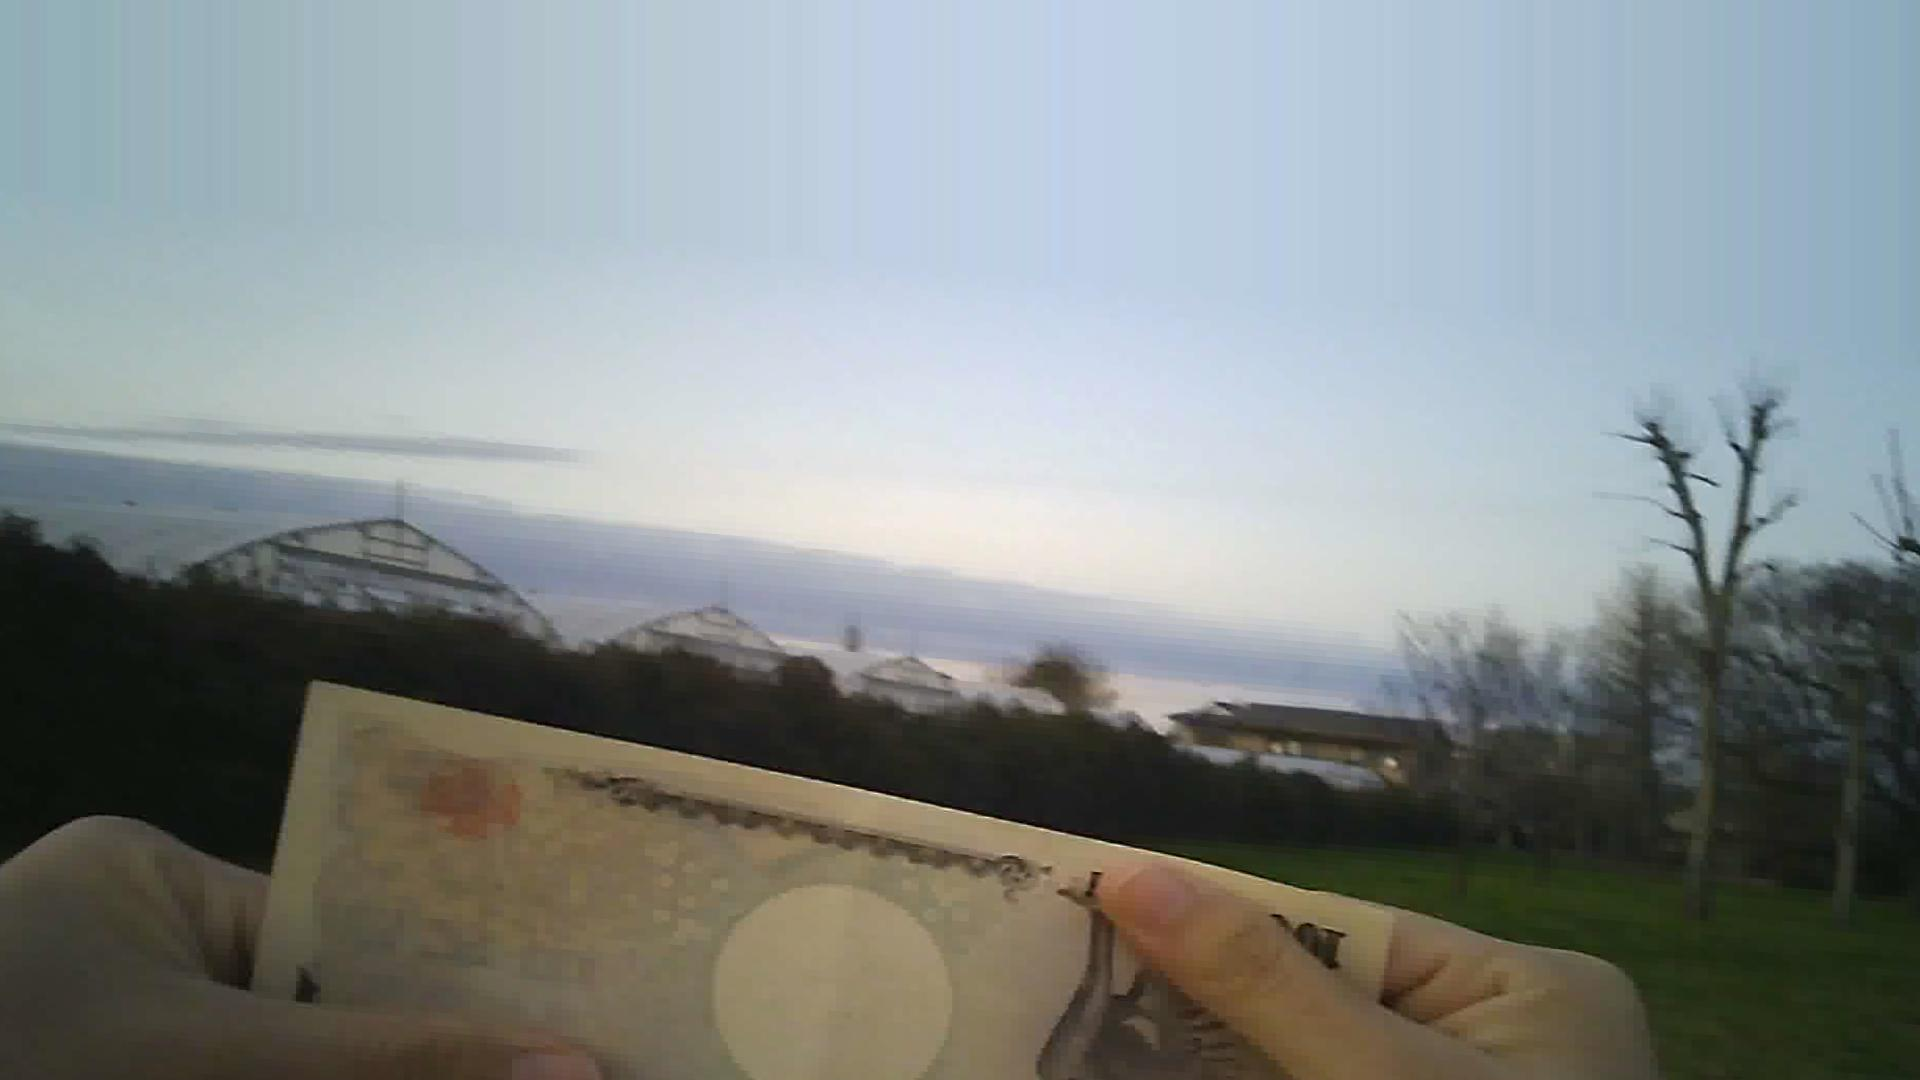10,000 Yen: (225, 679, 1348, 1079)
